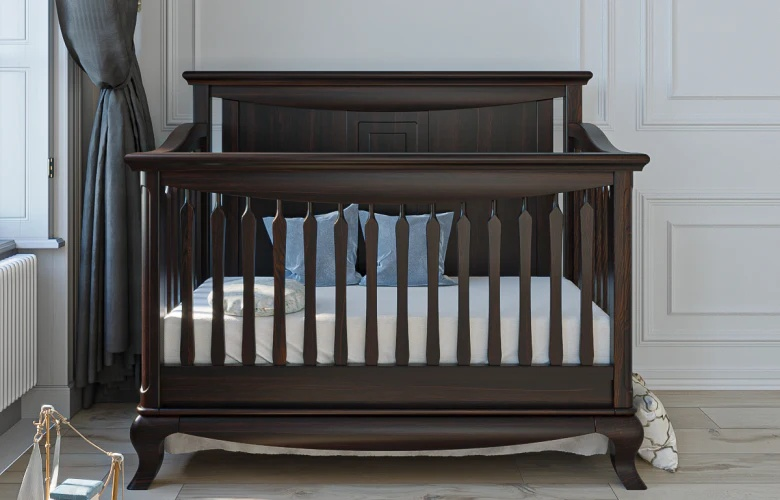crib: (127, 70, 648, 490)
